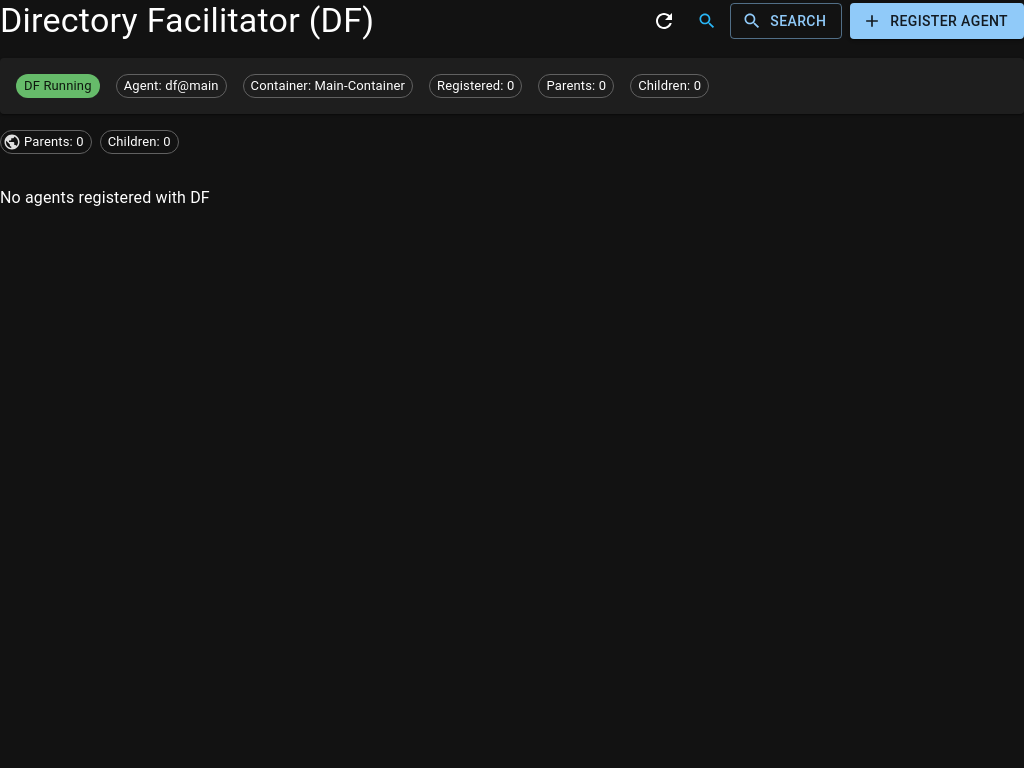
Test case: DFPage › Given view description button clicked, Then shows DF description dialog
Check: the button "Register Agent" is shown, box [850,3,1023,39]
Click the button named "View DF Description".
click(707, 21)  # box [692,6,722,36]
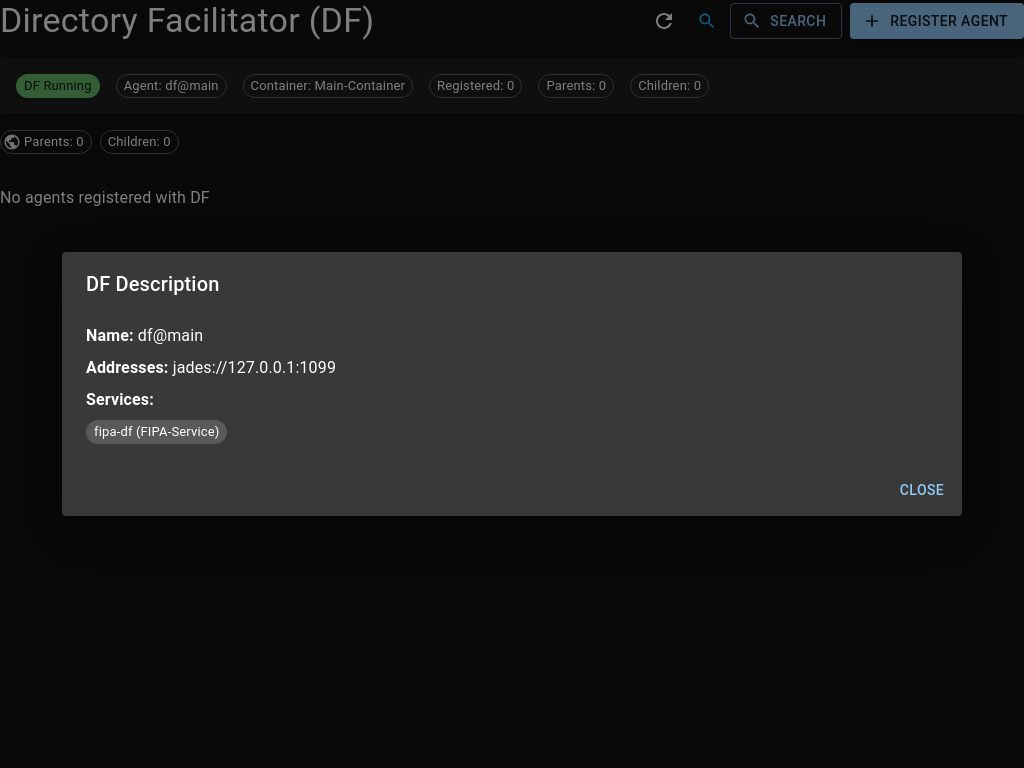
Check: the heading "DF Description" is shown, box [86,272,220,296]
